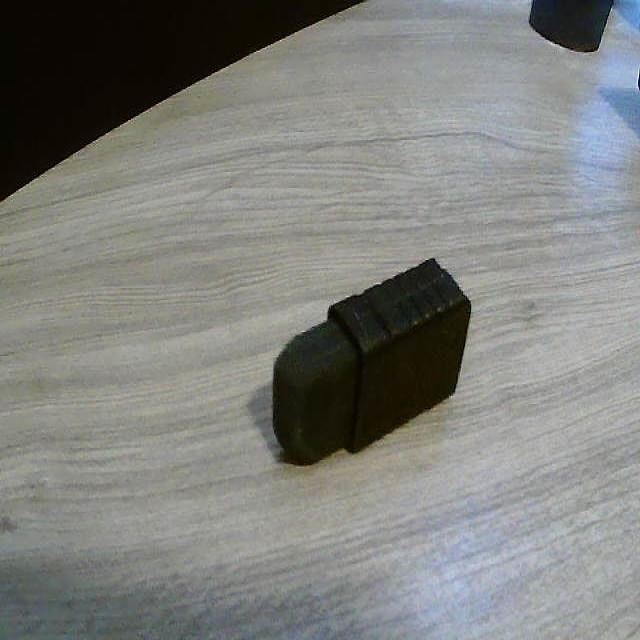borracha: (248, 247, 487, 482)
